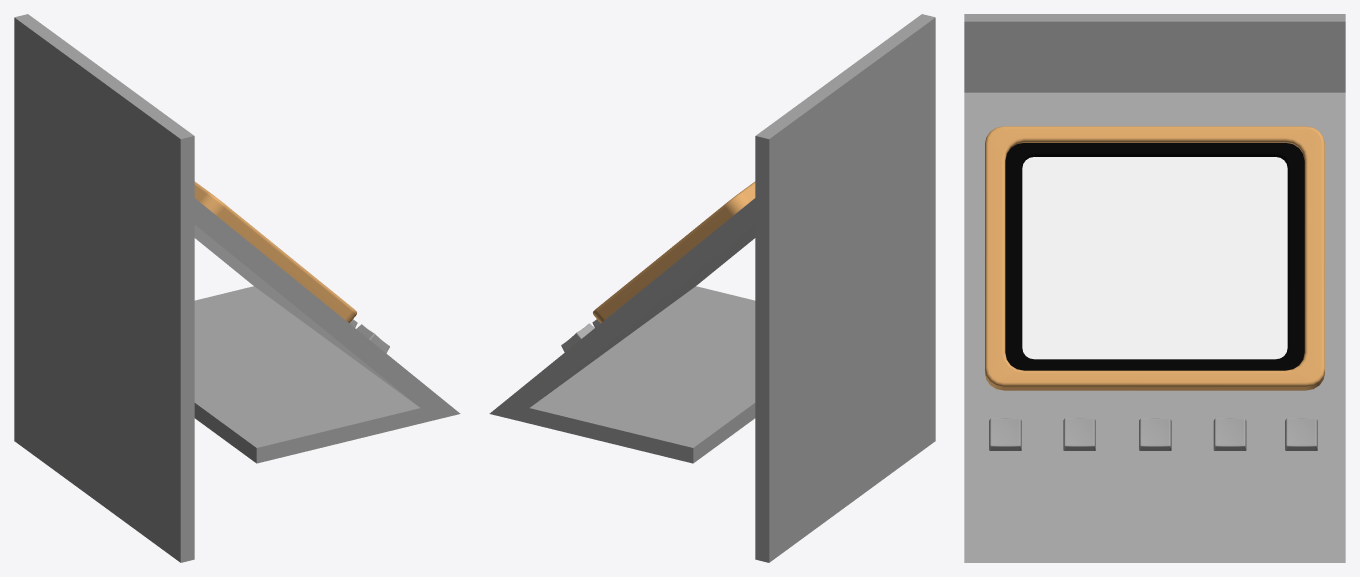
File: Lost Robot Player Reset.fbx
The picture shows the model from 3 angles, left to right: view 1: azimuth 30°, elevation 25°; view 2: azimuth 150°, elevation 25°; view 3: azimuth 270°, elevation 25°; orthographic projection. The views are drawn at different scales.
Parts seen in each view (by area): view 1: Player_restart; view 2: Player_restart; view 3: Player_restart.
Boxes of the visible parts, x1,y1,x2,y2 form: Player_restart: [14, 14, 460, 562]; Player_restart: [489, 14, 935, 562]; Player_restart: [964, 14, 1345, 562].
Size of the model in its own units: 20.4 by 29.5 by 21.02.
